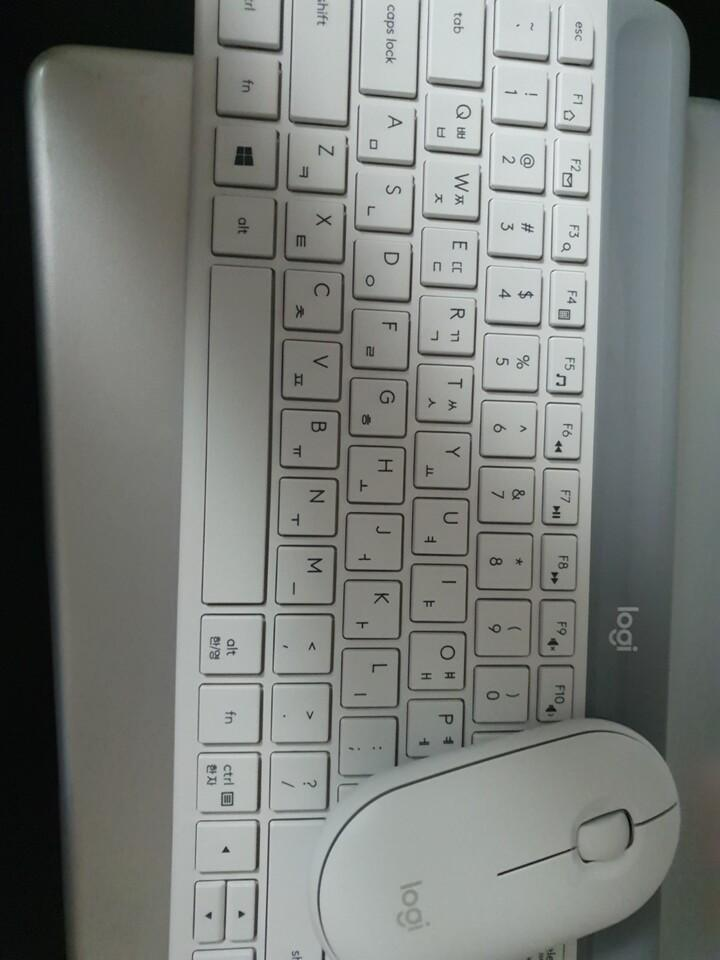mouse: (307, 715, 682, 958)
